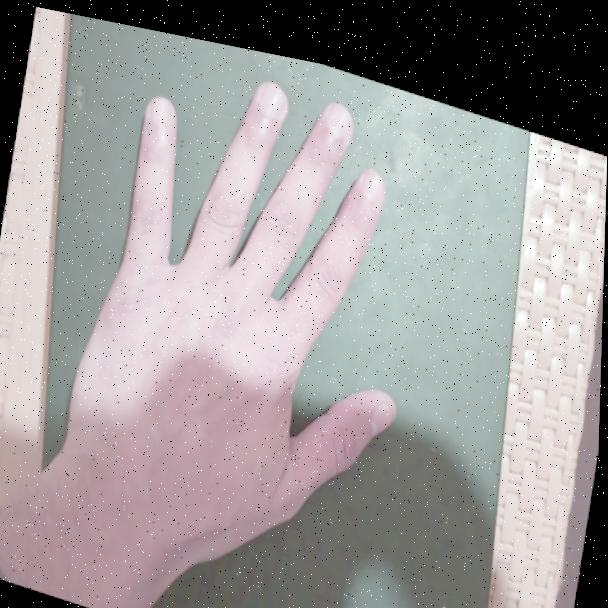five: (57, 11, 442, 574)
